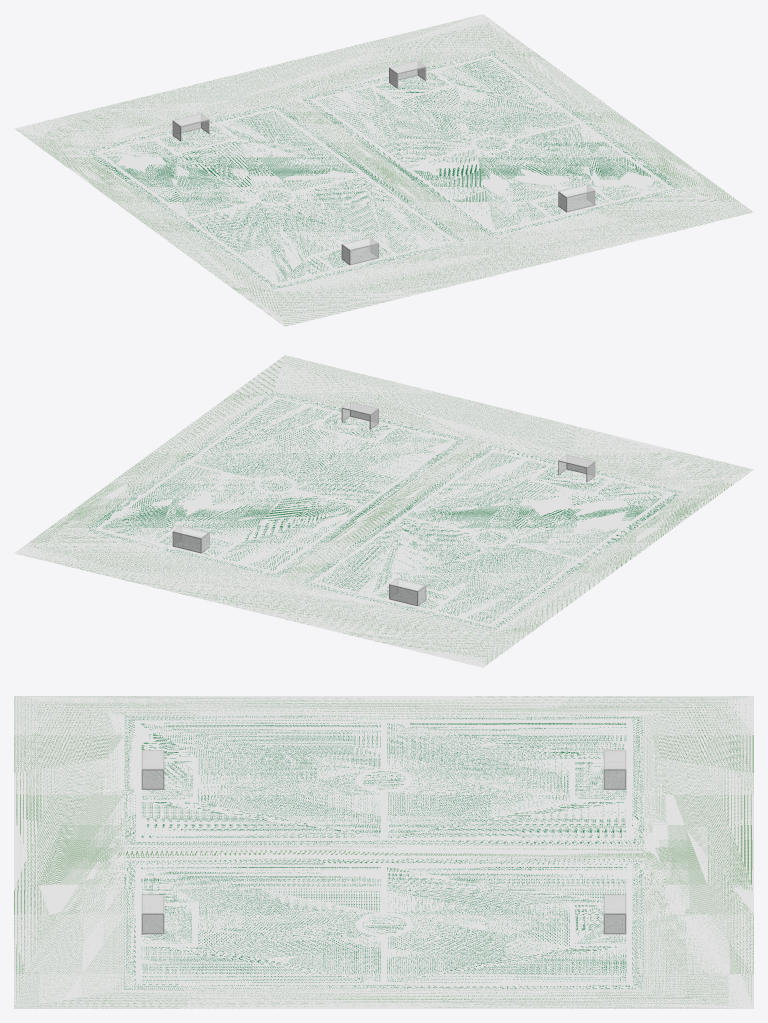
The model's file is 55_soccer.dae.
3 renders of one model, top to bottom at view 1: azimuth 30°, elevation 25°; view 2: azimuth 150°, elevation 25°; view 3: azimuth 270°, elevation 25°, orthographic. The views are drawn at different scales.
Visible parts, largest first — view 1: SketchUp (×13); view 2: SketchUp (×13); view 3: SketchUp (×15).
Boxes of the visible parts, left/top/right/bottom form: SketchUp (×13): left=14, top=14, right=753, bottom=326; SketchUp (×13): left=14, top=355, right=753, bottom=667; SketchUp (×15): left=14, top=696, right=753, bottom=1008.
Size of the model in its own units: 130 by 130 by 4.
